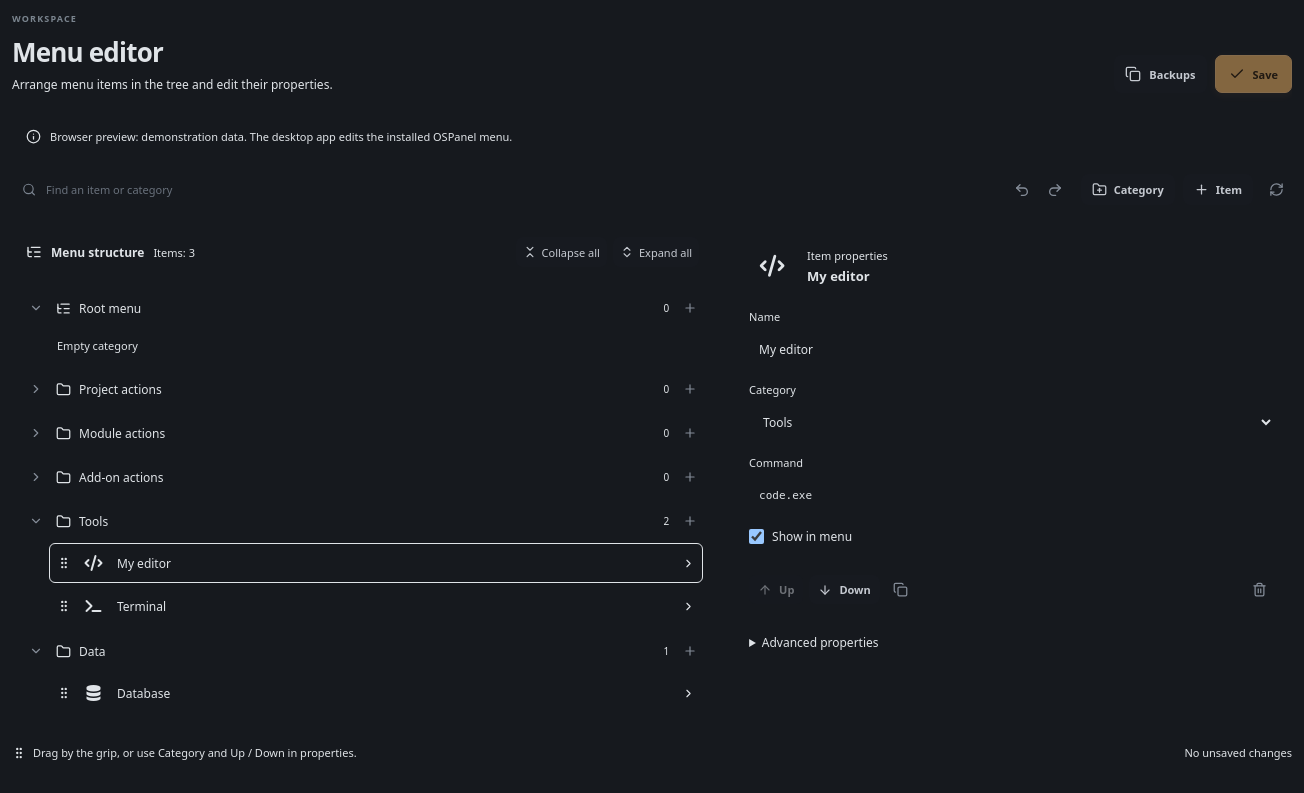
MenuEditor › supports keyboard-accessible ordering, deletion and undo without saving
Check: the field labelled "Name" is shown, box [749,331,1274,367]
Click the button "Down" at (845, 590), box [809,575,880,604]
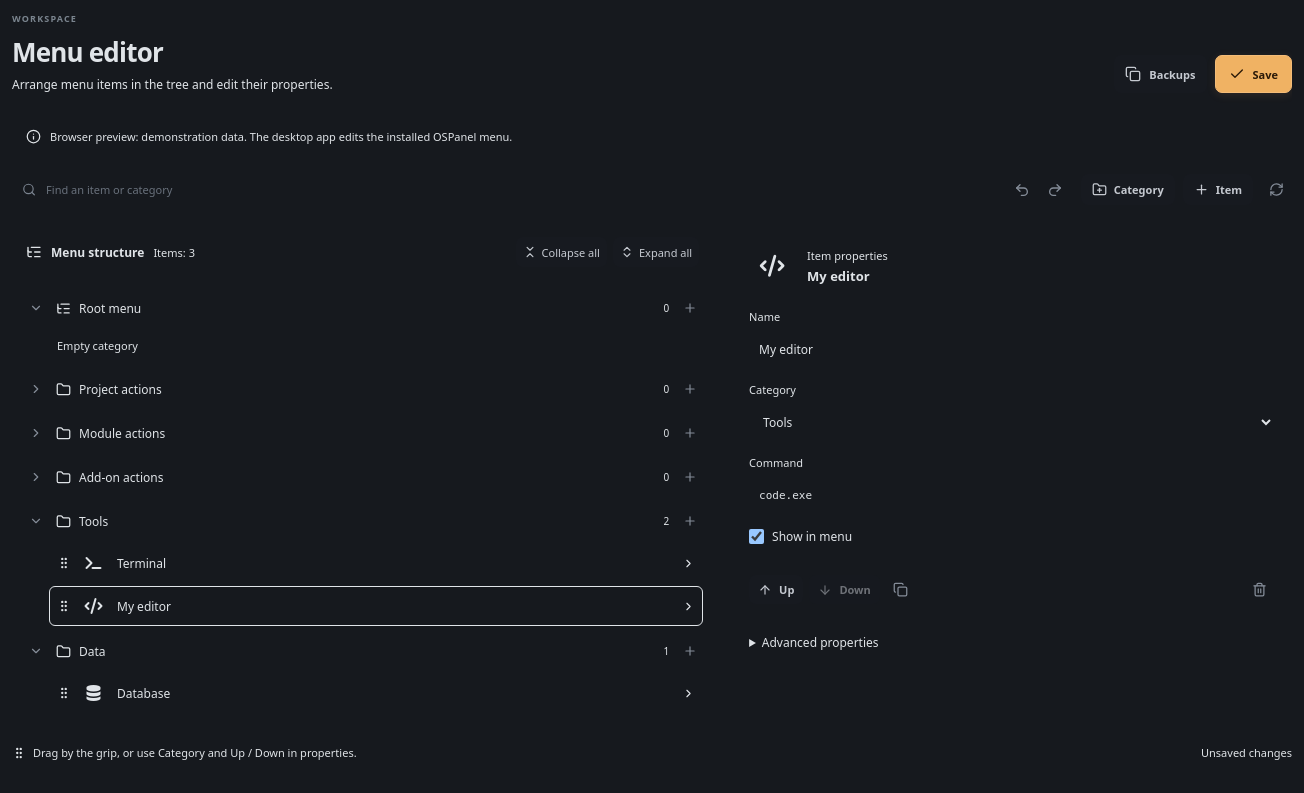
Click the button named "Delete item" at (1260, 590), box [1245,575,1274,604]
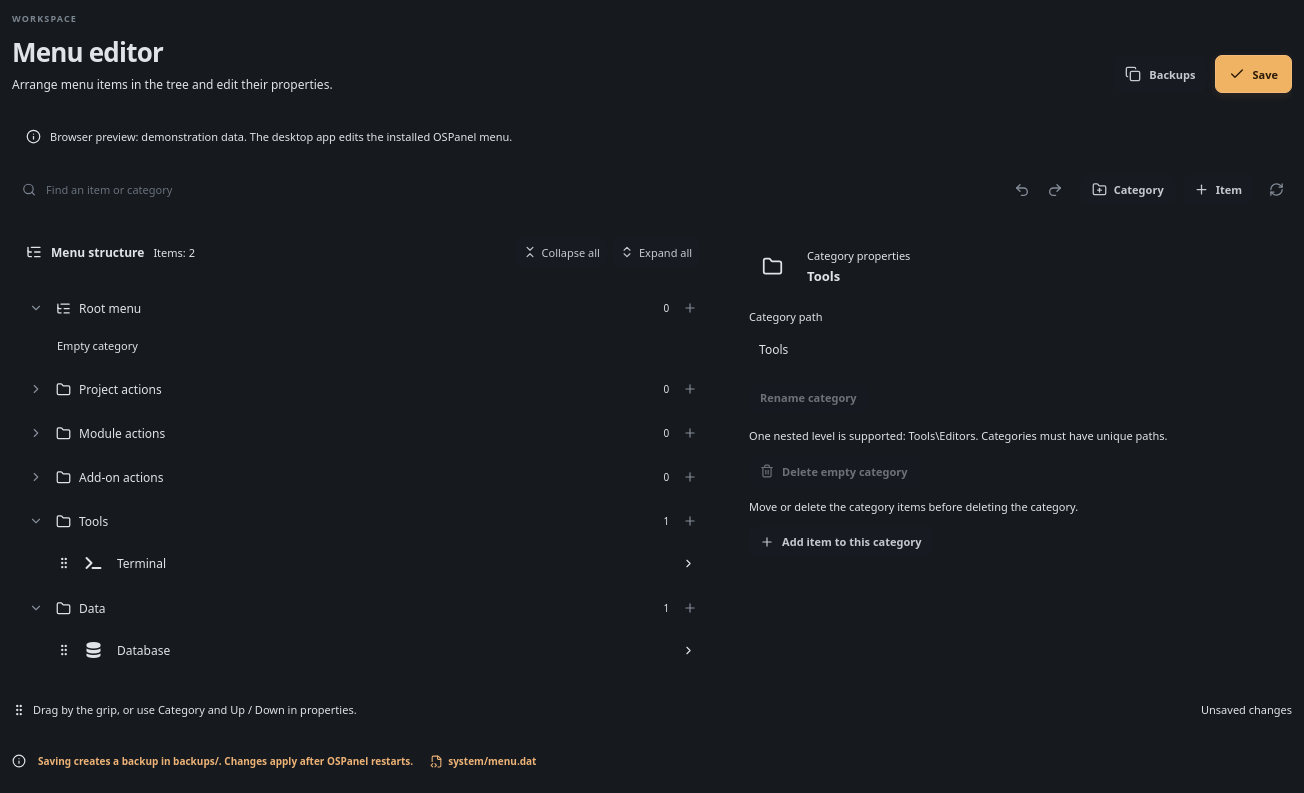
Check: the button "My editor" is gone
Click the button named "Undo" at (1022, 190), box [1007,174,1038,205]
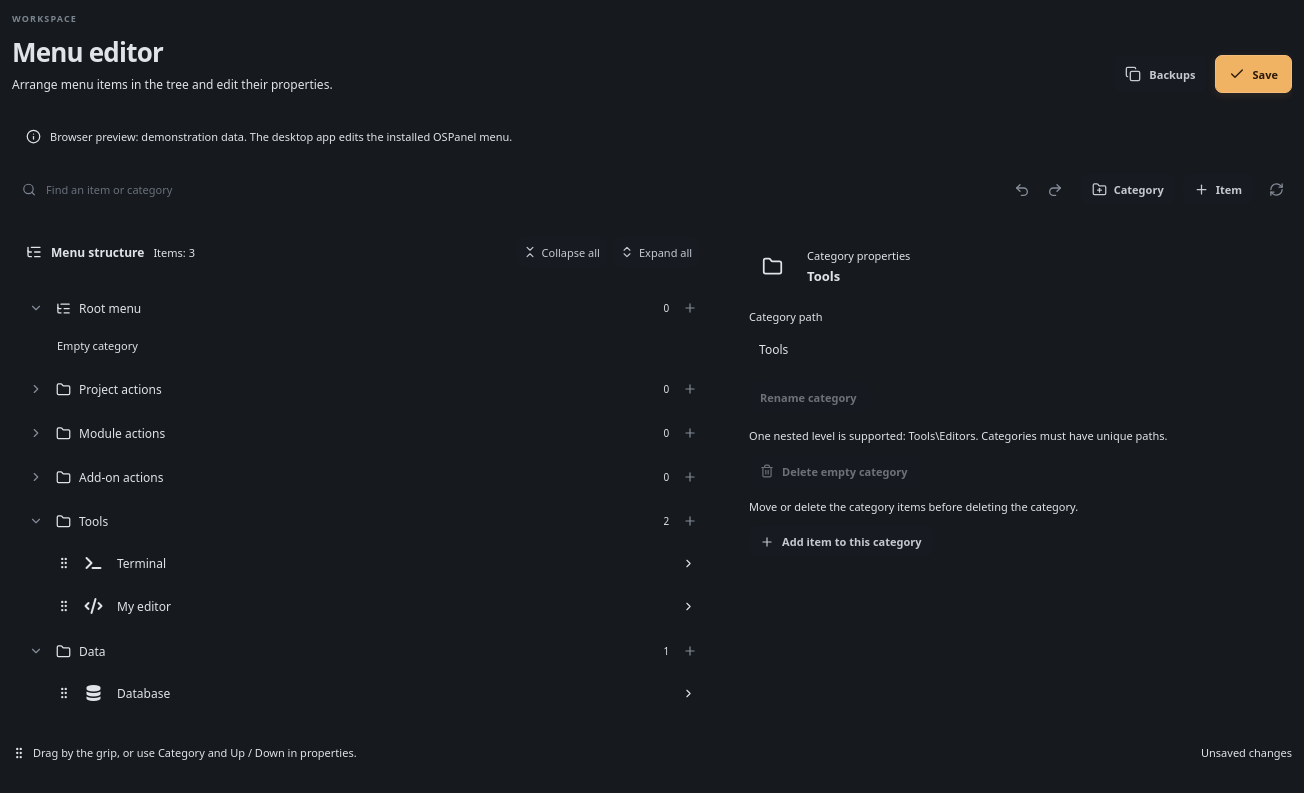
Check: the button " My editor" is shown, box [80,592,677,620]
